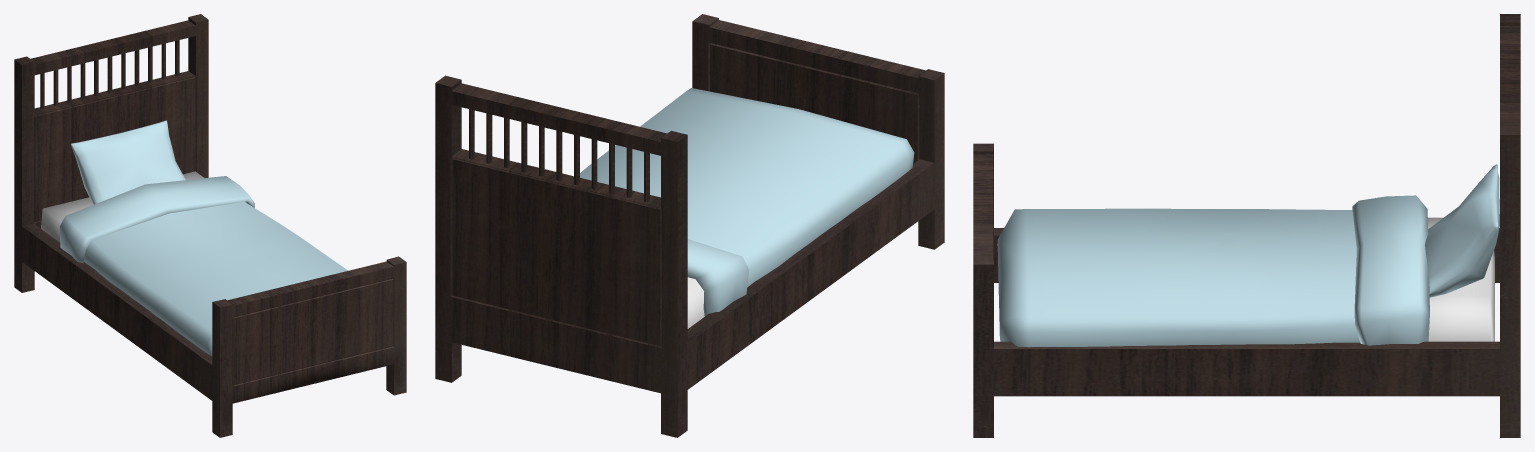
File: IKEA-Beddinge-Sofa-bed-frame-3d.FBX
3 renders of one model, left to right at view 1: azimuth 30°, elevation 25°; view 2: azimuth 150°, elevation 25°; view 3: azimuth 270°, elevation 25°, orthographic. The views are drawn at different scales.
Parts seen in each view (by area): view 1: Object11; view 2: Object11; view 3: Object11.
Part boxes in pixels (<box>): Object11: <box>14,14,406,437</box>; Object11: <box>435,14,944,437</box>; Object11: <box>973,14,1520,437</box>.
Bounding box in the file's own units: 1.04 × 1.21 × 1.98.
Materials: 3 (1 with a texture image).
